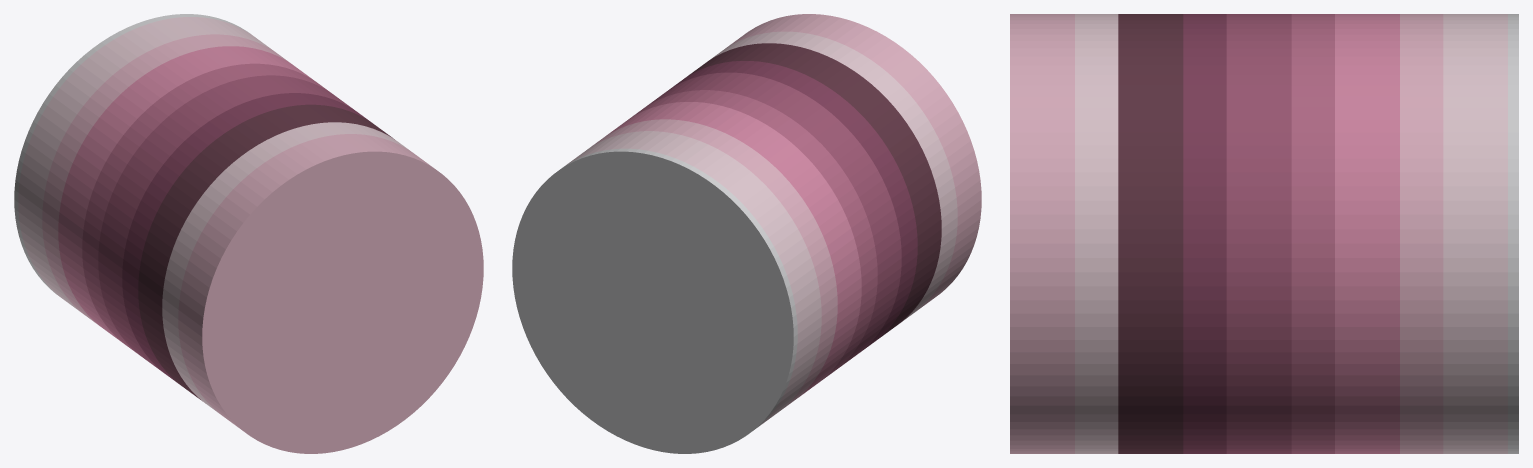
File: cake_8in_layers5.glb
The picture shows the model from 3 angles, left to right: view 1: azimuth 30°, elevation 25°; view 2: azimuth 150°, elevation 25°; view 3: azimuth 270°, elevation 25°; orthographic projection. The views are drawn at different scales.
Visible parts, largest first — view 1: geometry_8, geometry_6, geometry_4, geometry_0, geometry_2, geometry_1, geometry_3, geometry_7, geometry_5, geometry_9; view 2: geometry_9, geometry_4, geometry_2, geometry_6, geometry_0, geometry_8, geometry_1, geometry_7, geometry_3, geometry_5; view 3: geometry_4, geometry_6, geometry_0, geometry_2, geometry_8, geometry_1, geometry_3, geometry_5, geometry_7, geometry_9.
Part boxes in pixels (box(x1,y1,x2,y2)): geometry_8: box(178, 134, 483, 453); geometry_6: box(138, 104, 394, 401); geometry_4: box(98, 75, 353, 371); geometry_0: box(18, 17, 273, 312); geometry_2: box(58, 46, 312, 341); geometry_1: box(42, 34, 289, 324); geometry_3: box(82, 63, 329, 353); geometry_7: box(162, 122, 409, 412); geometry_5: box(122, 93, 370, 382); geometry_9: box(14, 14, 250, 295); geometry_9: box(512, 148, 797, 453); geometry_4: box(646, 72, 901, 368); geometry_2: box(605, 102, 861, 397); geometry_6: box(687, 43, 941, 338); geometry_0: box(566, 131, 821, 426); geometry_8: box(725, 14, 981, 310); geometry_1: box(590, 119, 837, 409); geometry_7: box(710, 31, 957, 322); geometry_3: box(630, 90, 877, 379); geometry_5: box(669, 61, 917, 351); geometry_4: box(1226, 14, 1291, 453); geometry_6: box(1118, 14, 1183, 453); geometry_0: box(1443, 14, 1507, 453); geometry_2: box(1335, 14, 1399, 453); geometry_8: box(1010, 14, 1074, 453); geometry_1: box(1400, 14, 1443, 453); geometry_3: box(1291, 14, 1334, 453); geometry_5: box(1183, 14, 1226, 453); geometry_7: box(1075, 14, 1118, 453); geometry_9: box(1508, 14, 1518, 453).
Size of the model in its own units: 0.2032 by 0.2032 by 0.235.
